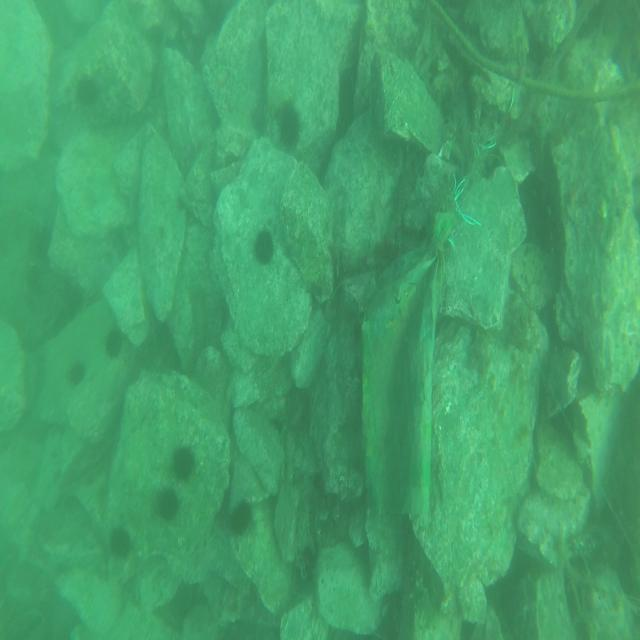echinus: (273, 100, 301, 147), (156, 482, 182, 524), (72, 72, 102, 108), (252, 222, 275, 268), (232, 491, 254, 538), (173, 443, 197, 484), (109, 519, 132, 560), (104, 325, 126, 362), (68, 361, 90, 391)
